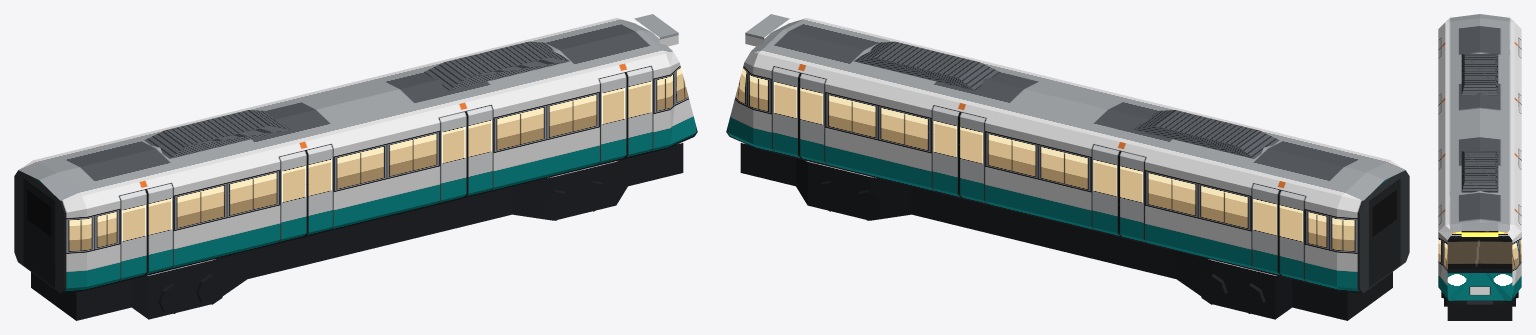
File: steel_classic__neutral__cab.glb
3 renders of one model, left to right at view 1: azimuth 30°, elevation 25°; view 2: azimuth 150°, elevation 25°; view 3: azimuth 270°, elevation 25°, orthographic. The views are drawn at different scales.
Visible parts, largest first — view 1: steel_classic__neutral__cab; view 2: steel_classic__neutral__cab; view 3: steel_classic__neutral__cab.
Boxes of the visible parts, x1=… form: steel_classic__neutral__cab: x1=14, y1=14, x2=697, y2=320; steel_classic__neutral__cab: x1=726, y1=14, x2=1409, y2=320; steel_classic__neutral__cab: x1=1438, y1=14, x2=1521, y2=320.
Bounding box in the file's own units: 15.49 × 3.49 × 2.46.
1 material, 1 textured.
